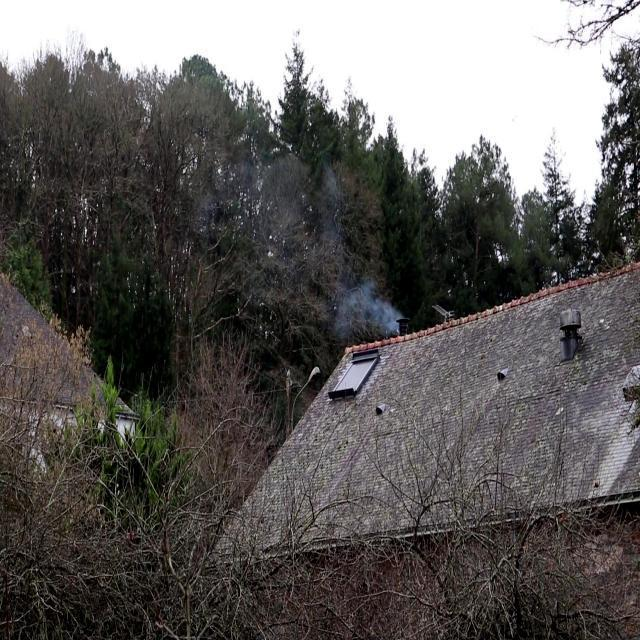Smoke: (336, 274, 406, 336)
